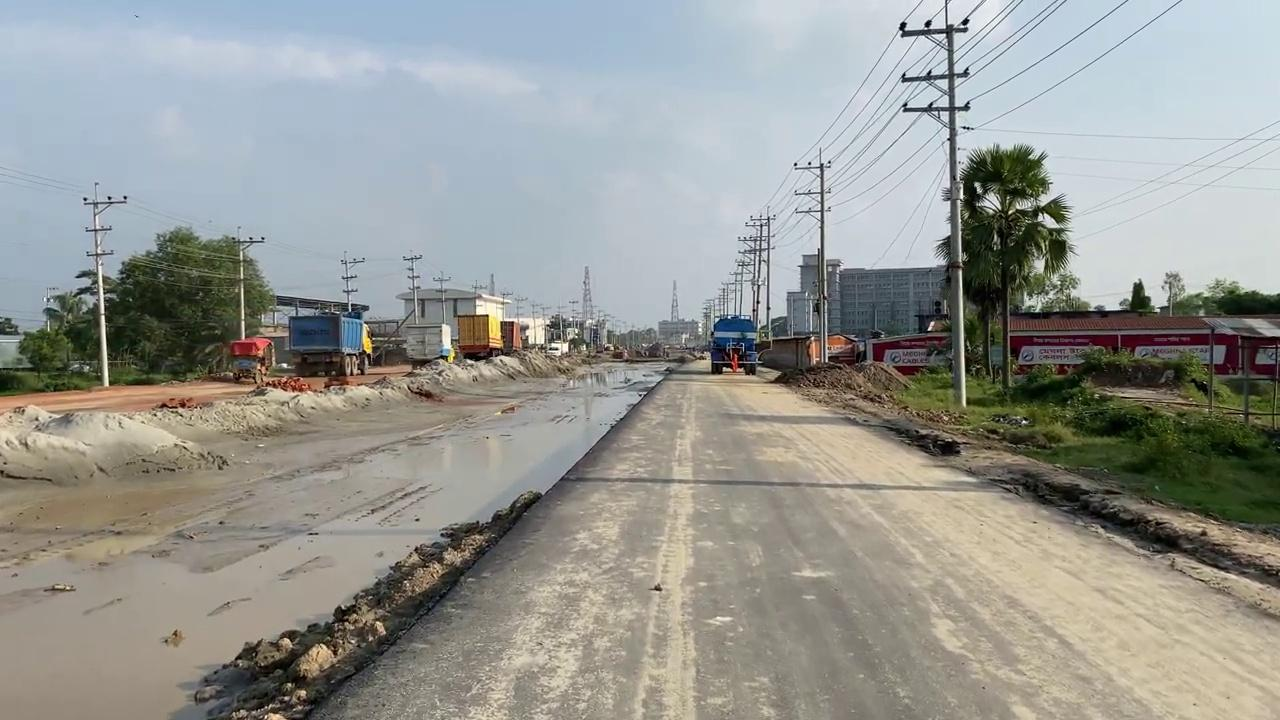Obstacle: (755, 334, 815, 371), (403, 323, 446, 364)
Pole: (898, 1, 972, 408), (792, 146, 831, 363)
Sidewalk: (1, 357, 675, 718)
Traffic-sign: (934, 141, 1077, 391)
Tree: (285, 309, 373, 377), (709, 314, 758, 375), (455, 313, 504, 359), (228, 337, 274, 384), (500, 319, 522, 355)
